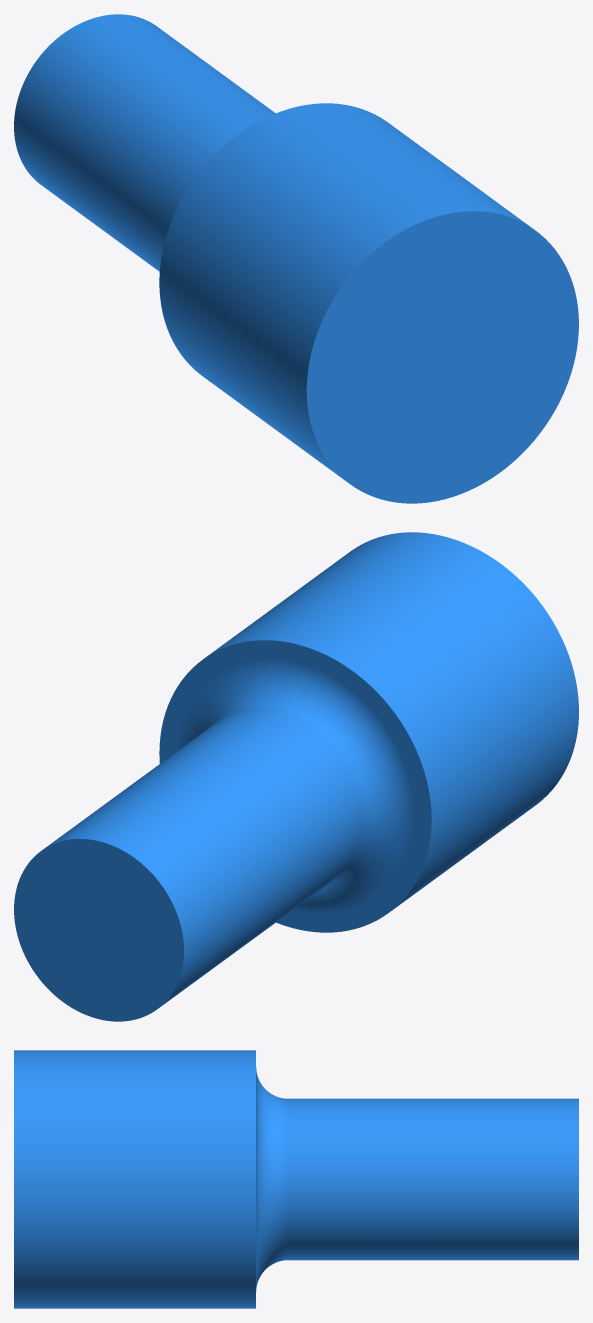
File: assembly.glb
3 renders of one model, top to bottom at view 1: azimuth 30°, elevation 25°; view 2: azimuth 150°, elevation 25°; view 3: azimuth 270°, elevation 25°, orthographic. The views are drawn at different scales.
Parts seen in each view (by area): view 1: filleted-shaft-2-step/body; view 2: filleted-shaft-2-step/body; view 3: filleted-shaft-2-step/body.
Part boxes in pixels (x1,y1,x2,y2): filleted-shaft-2-step/body: (14, 14, 578, 503); filleted-shaft-2-step/body: (14, 532, 578, 1021); filleted-shaft-2-step/body: (14, 1050, 578, 1308).
Bounding box in the file's own units: 0.016 × 0.016 × 0.035.
